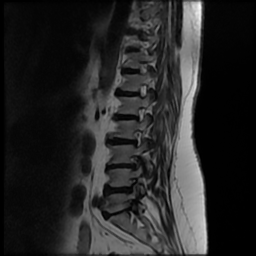LFS0: (132, 104, 147, 125)
LFS1: (128, 126, 145, 149)
LFS3: (125, 151, 144, 174)
